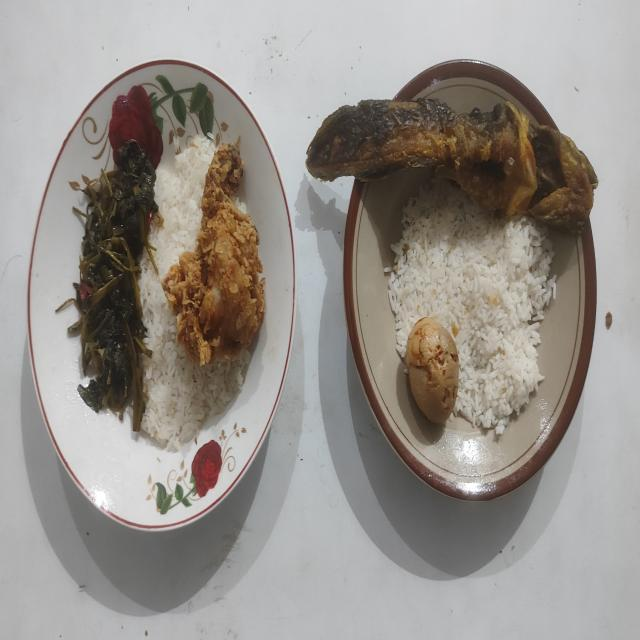nasi_putih: (388, 180, 556, 434), (140, 136, 250, 451)
tumis_kangkung: (56, 140, 158, 431)
